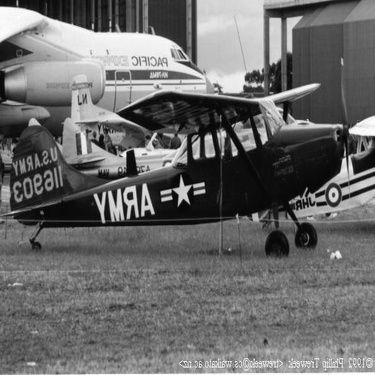airplane: (12, 77, 360, 269), (2, 1, 234, 126), (55, 115, 359, 193), (268, 93, 370, 261), (63, 71, 219, 148)
